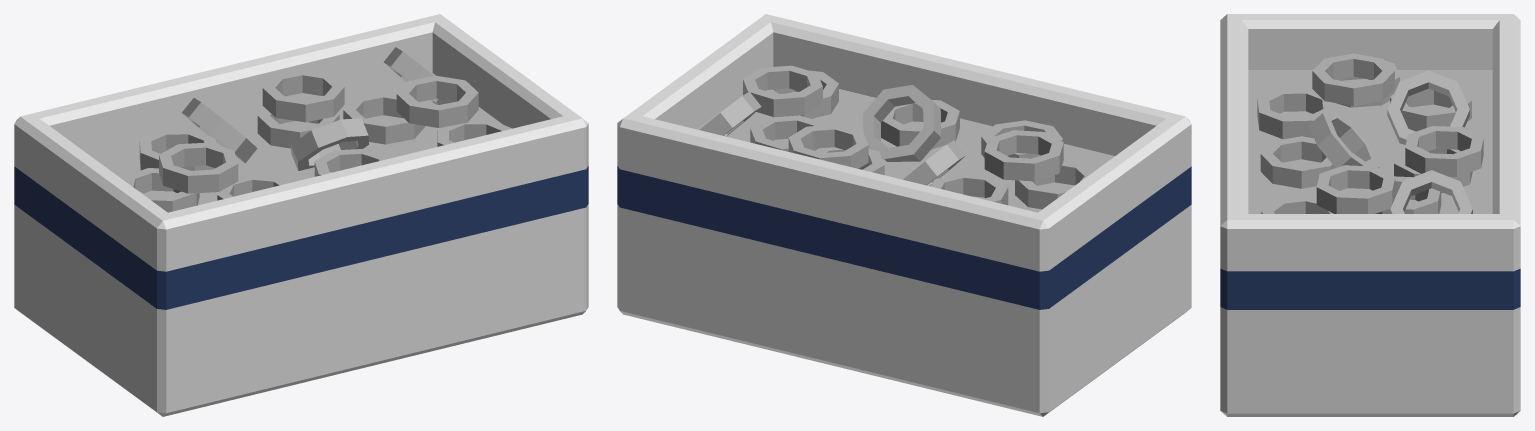
The model's file is Bolts.glb.
3 views of the same model, side by side, from view 1: azimuth 30°, elevation 25°; view 2: azimuth 150°, elevation 25°; view 3: azimuth 270°, elevation 25° (orthographic).
Visible parts, largest first — view 1: Bolts; view 2: Bolts; view 3: Bolts.
Part boxes in pixels (<box>): Bolts: <box>14,14,588,416</box>; Bolts: <box>617,14,1191,416</box>; Bolts: <box>1220,14,1520,416</box>.
Bounding box in the file's own units: 0.0539 × 0.0247 × 0.0323.
